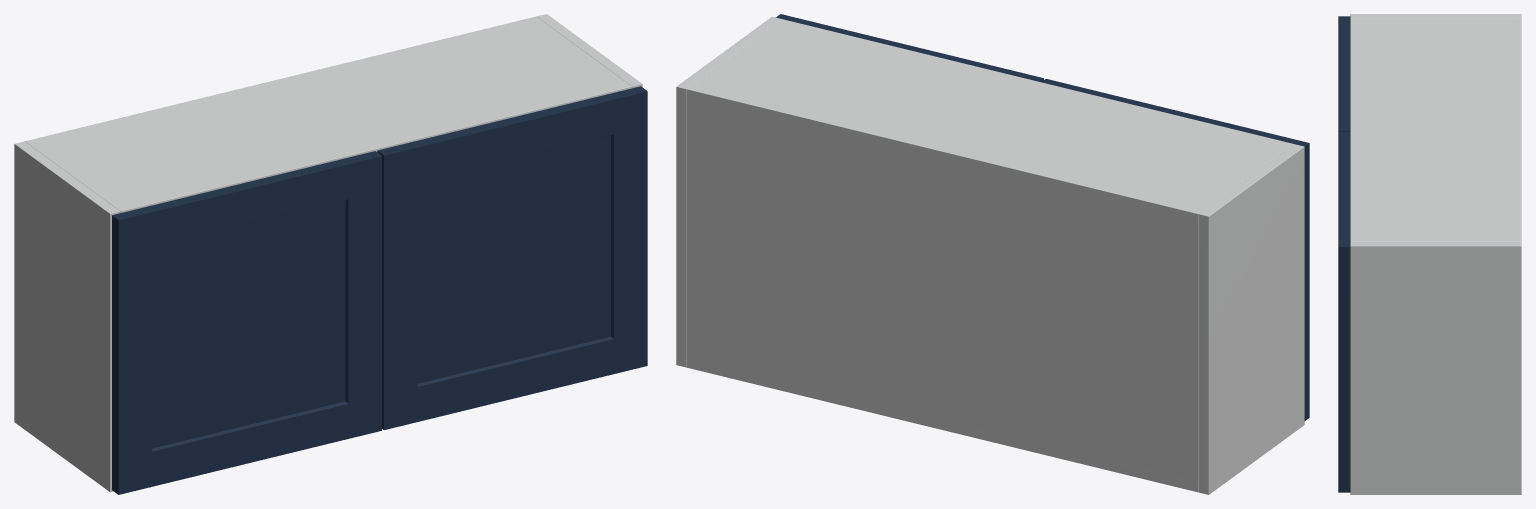
The model's file is oppein-ply-bss-w3618.glb.
3 views of the same model, side by side, from view 1: azimuth 30°, elevation 25°; view 2: azimuth 150°, elevation 25°; view 3: azimuth 270°, elevation 25° (orthographic). The views are drawn at different scales.
Parts seen in each view (by area): view 1: Door, Door.001, Cabinet top, Cabinet side, Cabinet back, Cabinet side.001; view 2: Cabinet back, Cabinet top, Cabinet side, Cabinet side.001, Cabinet bottom, Door, Door.001; view 3: Cabinet side.001, Cabinet top, Door.001, Cabinet back, Door, Cabinet side.
Part boxes in pixels (bbox=[...]): Door: bbox=[112, 151, 381, 494]; Door.001: bbox=[377, 86, 647, 429]; Cabinet top: bbox=[26, 17, 631, 212]; Cabinet side: bbox=[14, 141, 120, 492]; Cabinet back: bbox=[25, 16, 539, 143]; Cabinet side.001: bbox=[536, 14, 642, 88]; Cabinet back: bbox=[687, 86, 1201, 492]; Cabinet top: bbox=[687, 19, 1293, 224]; Cabinet side: bbox=[1198, 144, 1304, 494]; Cabinet side.001: bbox=[676, 16, 782, 367]; Cabinet bottom: bbox=[687, 357, 1197, 491]; Door: bbox=[1041, 79, 1309, 420]; Door.001: bbox=[776, 14, 1043, 81]; Cabinet side.001: bbox=[1350, 241, 1521, 494]; Cabinet top: bbox=[1350, 18, 1521, 241]; Door.001: bbox=[1338, 132, 1350, 492]; Cabinet back: bbox=[1514, 18, 1521, 241]; Door: bbox=[1338, 16, 1350, 131]; Cabinet side: bbox=[1350, 14, 1521, 18].
Size of the model in its own units: 0.9144 by 0.4572 by 0.3048.
